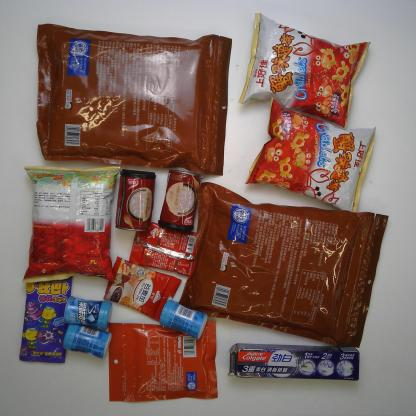Candy: (12, 257, 80, 365)
Canned Food: (152, 164, 206, 232), (112, 166, 158, 234)
Dried Food: (172, 179, 392, 351), (29, 19, 237, 177)
Dried Fruit: (105, 318, 222, 405)
Gum: (155, 296, 212, 342), (59, 318, 113, 362), (60, 291, 116, 332)
Instant Drink: (100, 253, 185, 325), (127, 216, 206, 280)
Personal Hygiene: (224, 338, 364, 384)
Puffed Food: (242, 92, 381, 218), (236, 11, 372, 131), (16, 156, 122, 286)
